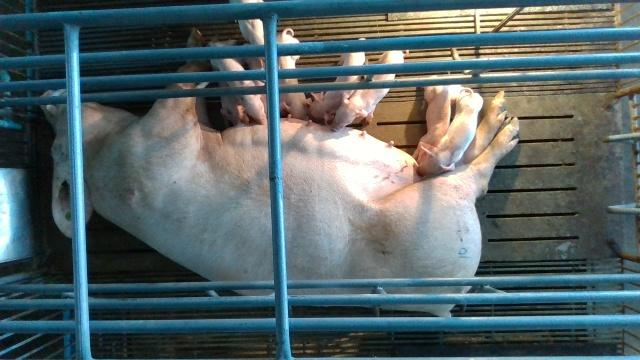piglet: (332, 41, 408, 137), (418, 88, 488, 186), (311, 30, 369, 125), (206, 38, 268, 125), (412, 73, 464, 168), (271, 28, 313, 122), (227, 0, 275, 74)
sow-sleep-lactate: (37, 25, 520, 318)
